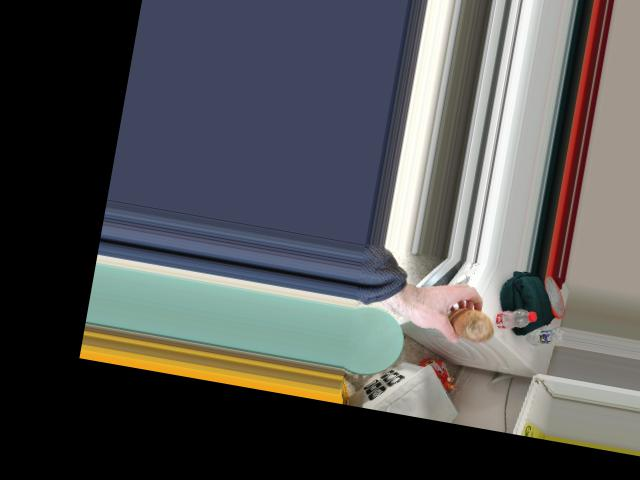sweet_potato: (440, 301, 500, 350)
